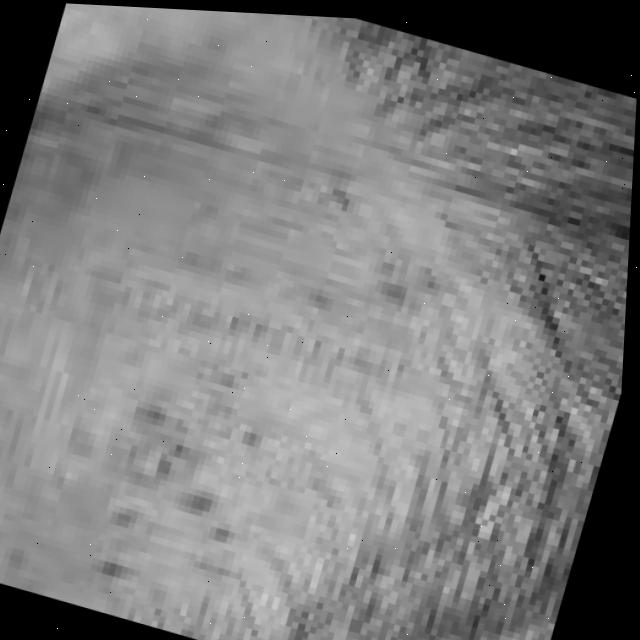Melasma: (101, 241, 299, 546)
